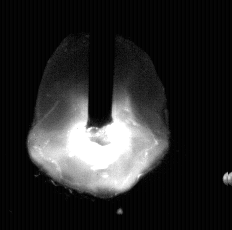arame: (88, 0, 114, 127)
poca: (27, 0, 170, 230)
